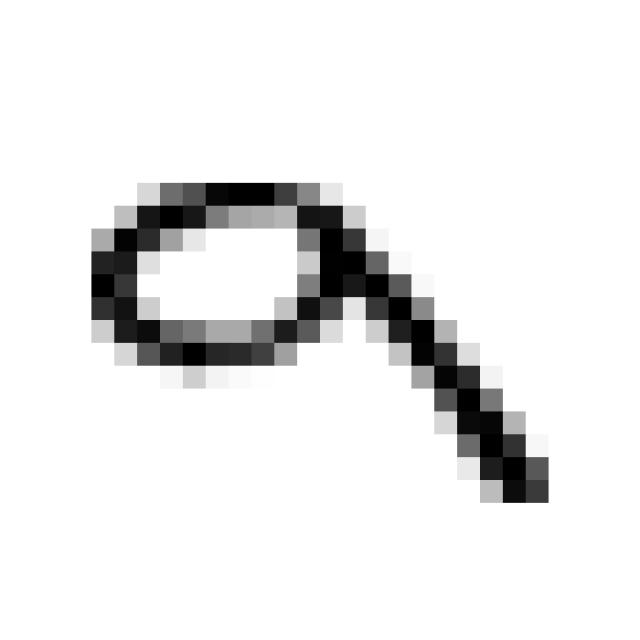9 -nine-: (64, 160, 563, 531)
